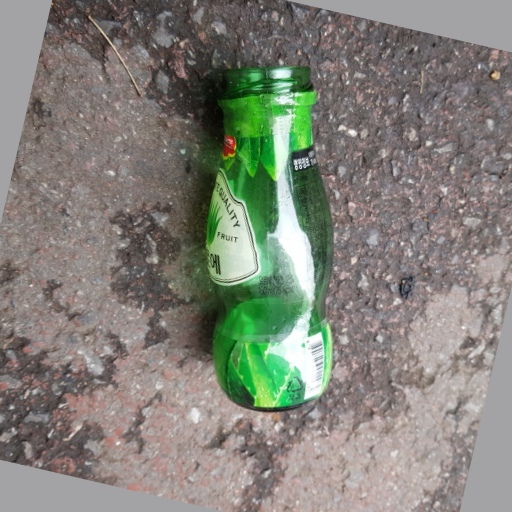Glass_4: (193, 64, 349, 407)
